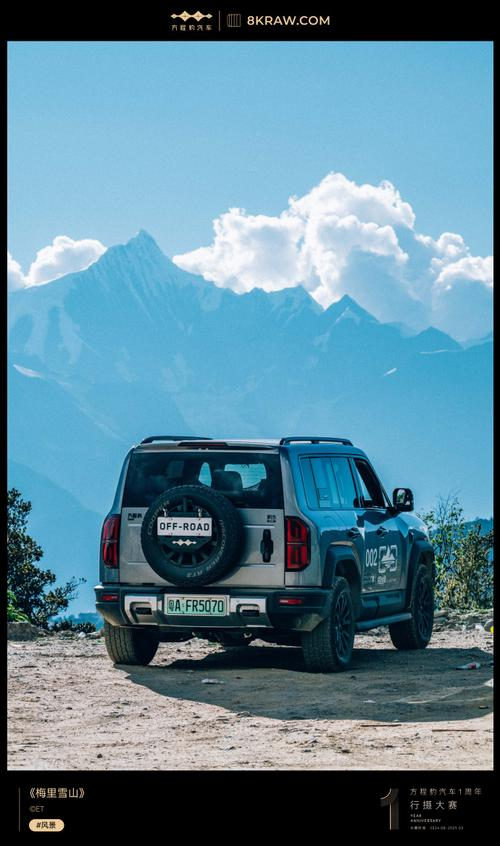汽车: (72, 429, 457, 671)
